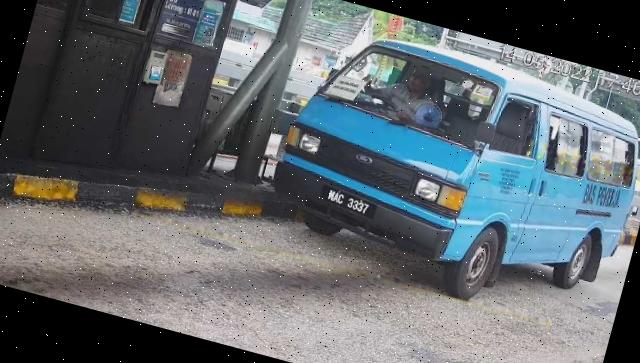License_Plate: (318, 184, 381, 223)
van: (255, 14, 640, 336)
